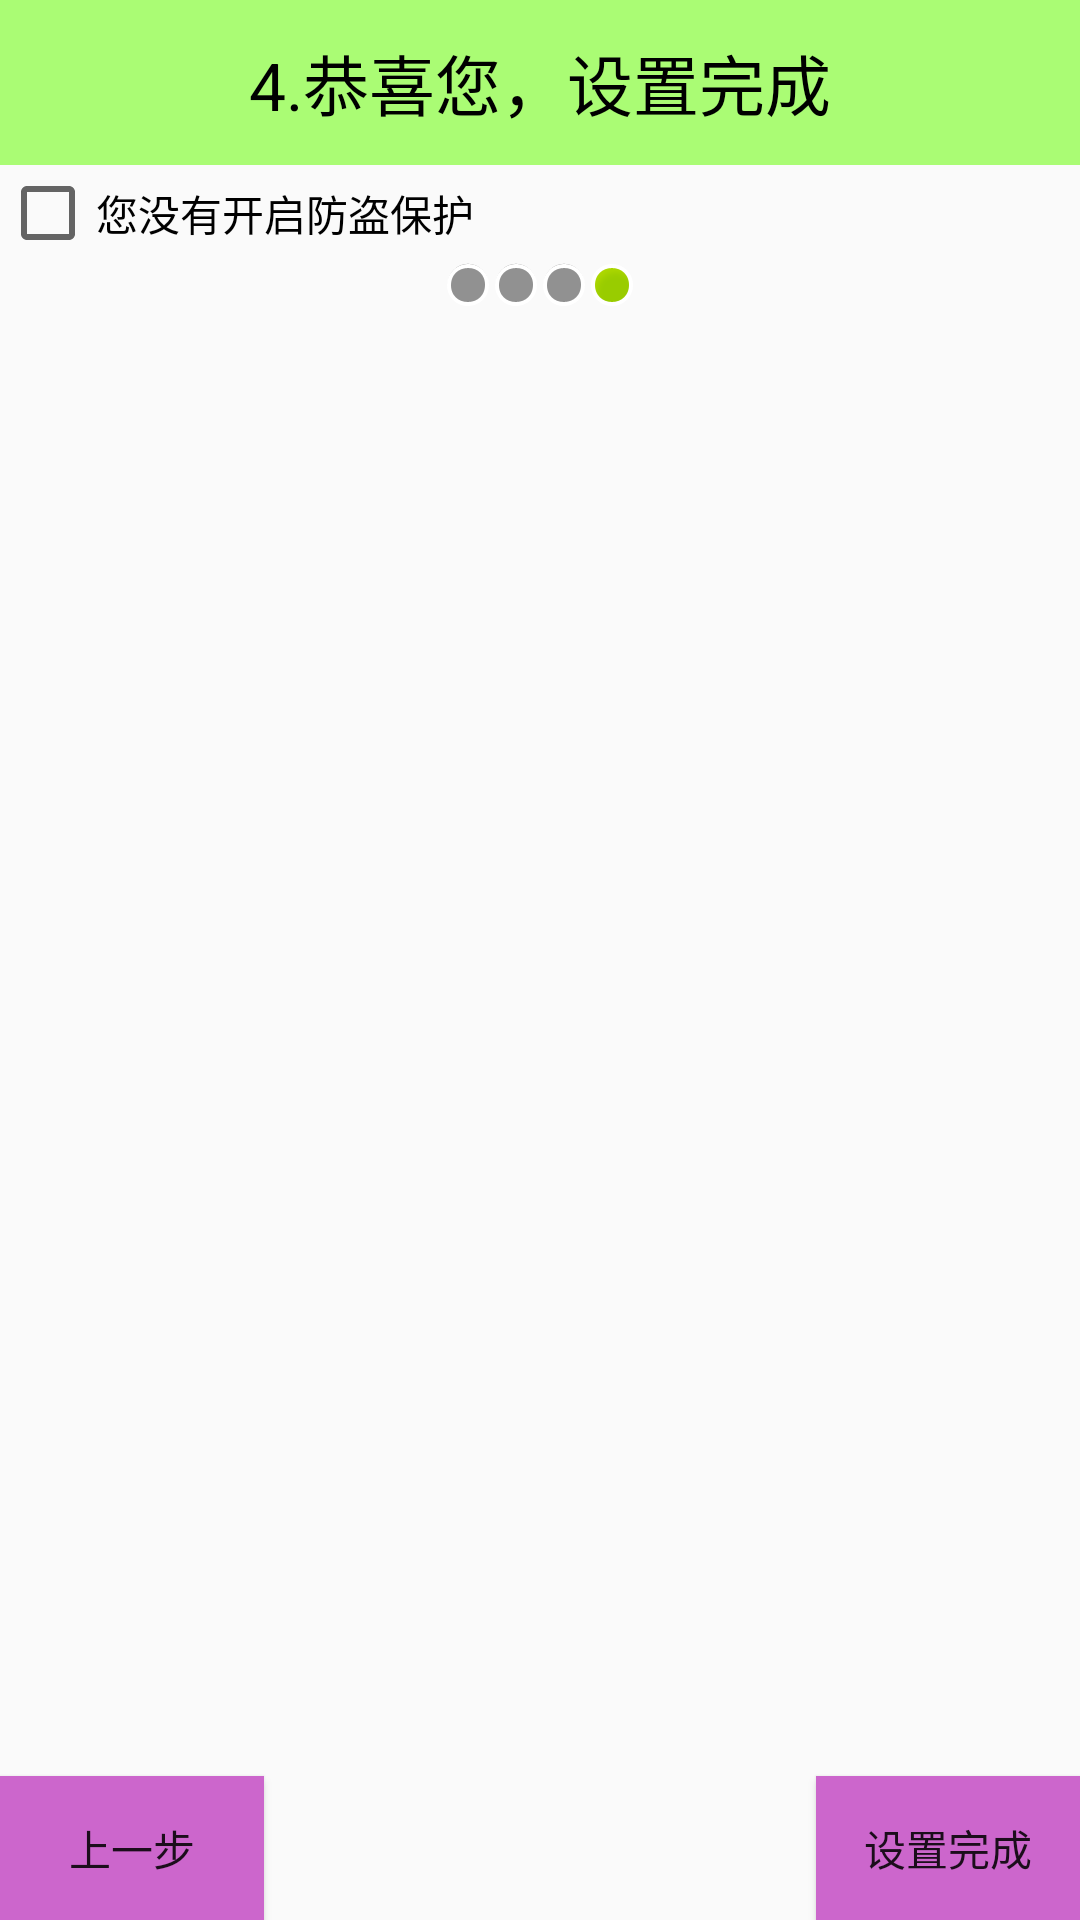

Locate icon controls on the screen. Image size 1080w x 1920h, boxes as box=[x1, y1, x2, y2].
presence invisible: box=[451, 264, 485, 302], box=[499, 264, 533, 302], box=[547, 264, 581, 302]
presence online: box=[595, 268, 629, 302]
